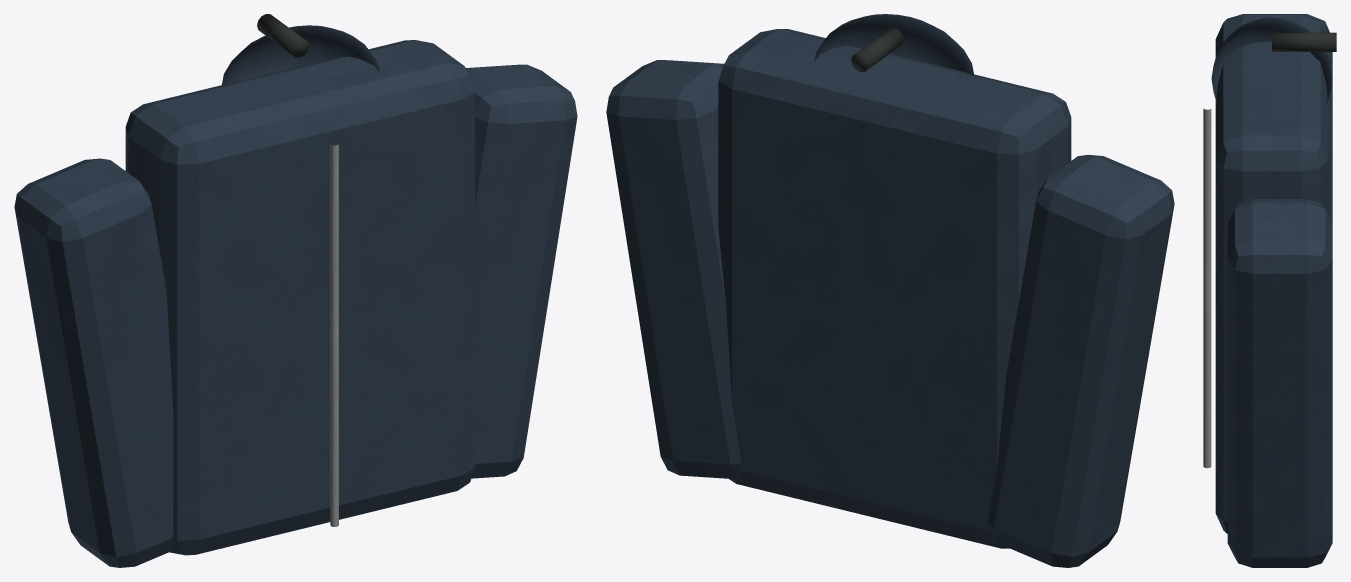
File: coat_hook.glb
3 renders of one model, left to right at view 1: azimuth 30°, elevation 25°; view 2: azimuth 150°, elevation 25°; view 3: azimuth 270°, elevation 25°, orthographic. The views are drawn at different scales.
Visible parts, largest first — view 1: coat_hook_Mesh; view 2: coat_hook_Mesh; view 3: coat_hook_Mesh.
Boxes of the visible parts, x1,y1,x2,y2 form: coat_hook_Mesh: [14, 14, 577, 567]; coat_hook_Mesh: [606, 14, 1174, 567]; coat_hook_Mesh: [1203, 14, 1336, 567].
Bounding box in the file's own units: 0.7103 × 0.618 × 0.165.
Materials: 3 (3 with a texture image).
